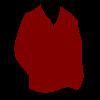felpa: (14, 3, 84, 92)
